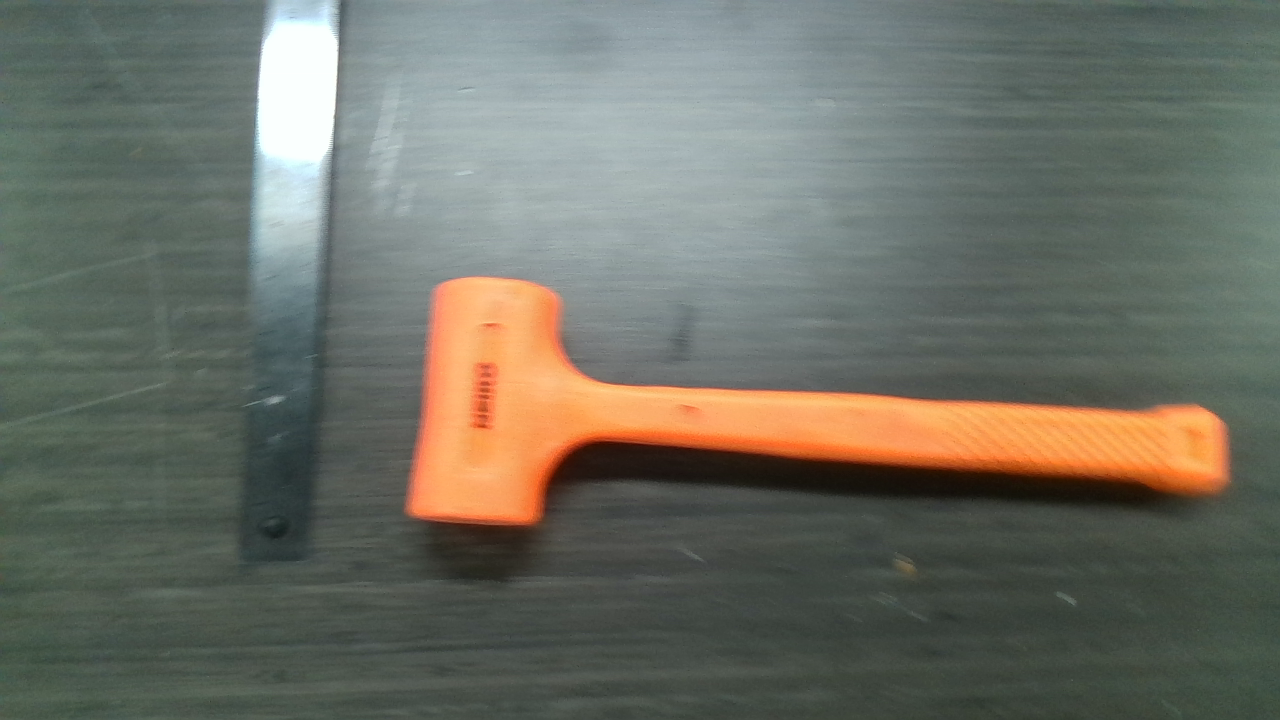Orange Hammer: (414, 281, 1228, 531)
